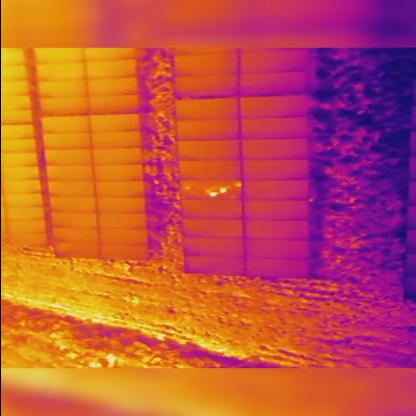panel: (241, 196, 312, 224), (238, 178, 313, 203), (238, 137, 312, 162), (238, 114, 309, 140), (174, 156, 245, 181), (241, 217, 311, 242), (238, 94, 308, 119), (243, 235, 310, 261), (172, 96, 242, 120), (178, 196, 245, 221), (243, 255, 311, 279), (182, 253, 249, 277), (174, 117, 241, 141), (181, 215, 245, 239), (174, 138, 242, 160), (240, 158, 311, 179), (181, 235, 248, 257), (177, 177, 244, 199)
